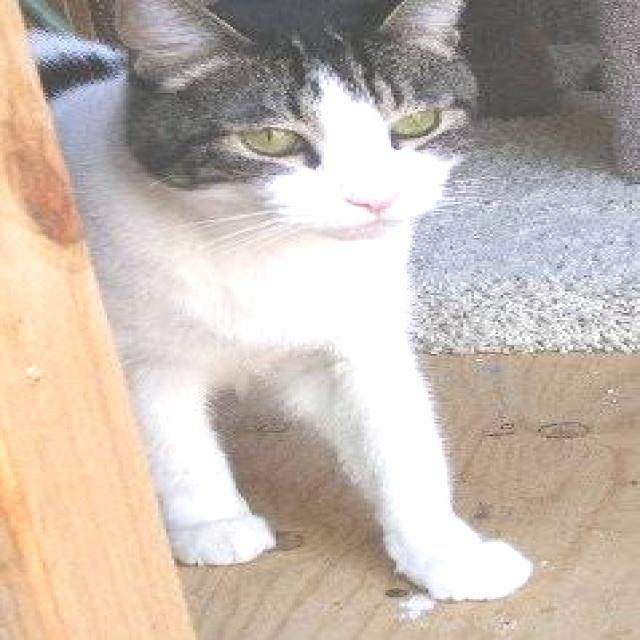Kucing: (5, 0, 582, 640)
